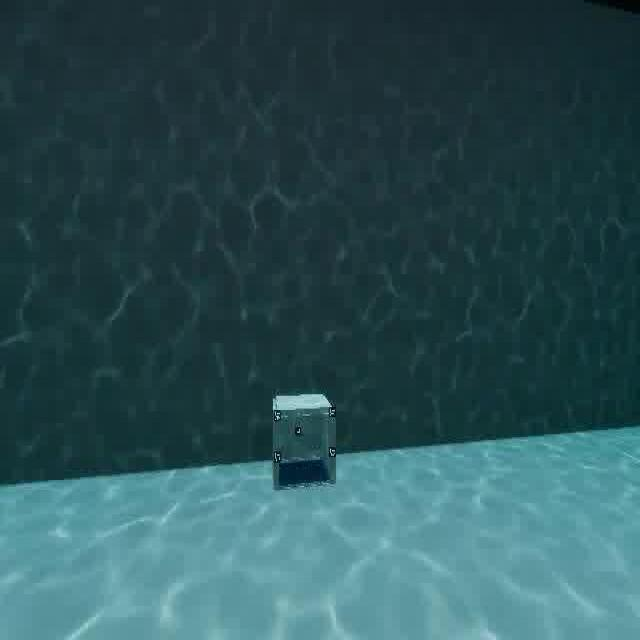Docking Station: (266, 383, 340, 492)
